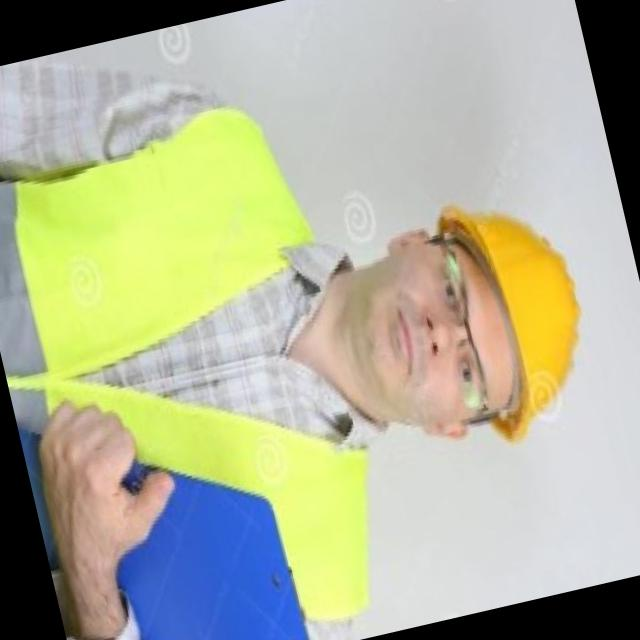not-gloved: (17, 373, 204, 632)
